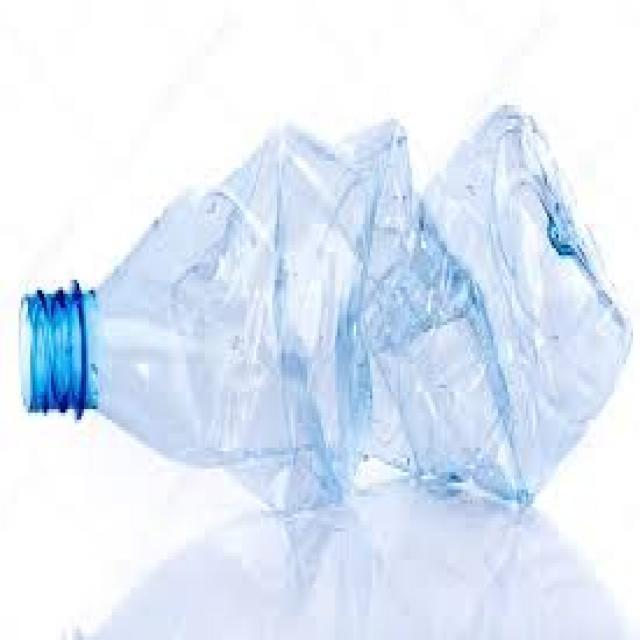chai: (96, 108, 631, 511)
